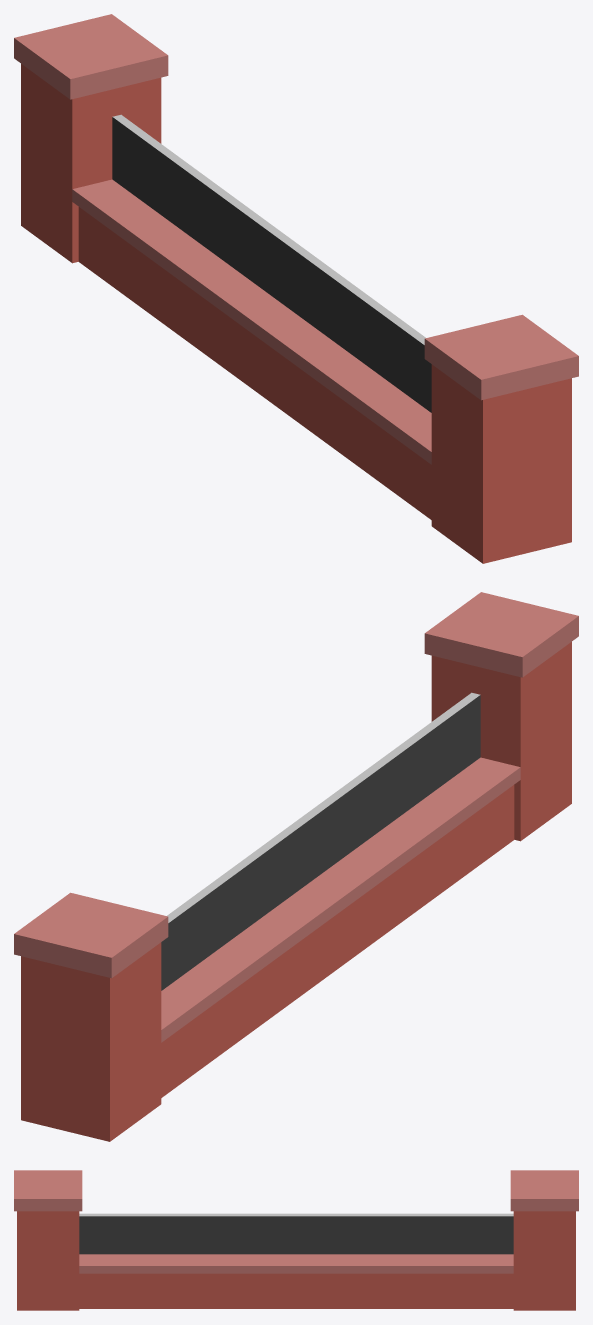
The model's file is brick and iron fence.fbx.
3 views of the same model, one above another, from view 1: azimuth 30°, elevation 25°; view 2: azimuth 150°, elevation 25°; view 3: azimuth 270°, elevation 25° (orthographic). The views are drawn at different scales.
Parts seen in each view (by area): view 1: Cube.000; view 2: Cube.000; view 3: Cube.000.
Part boxes in pixels (<box>): Cube.000: <box>14,14,578,563</box>; Cube.000: <box>14,592,578,1141</box>; Cube.000: <box>14,1170,578,1310</box>.
Size of the model in its own units: 55 by 100 by 455.
